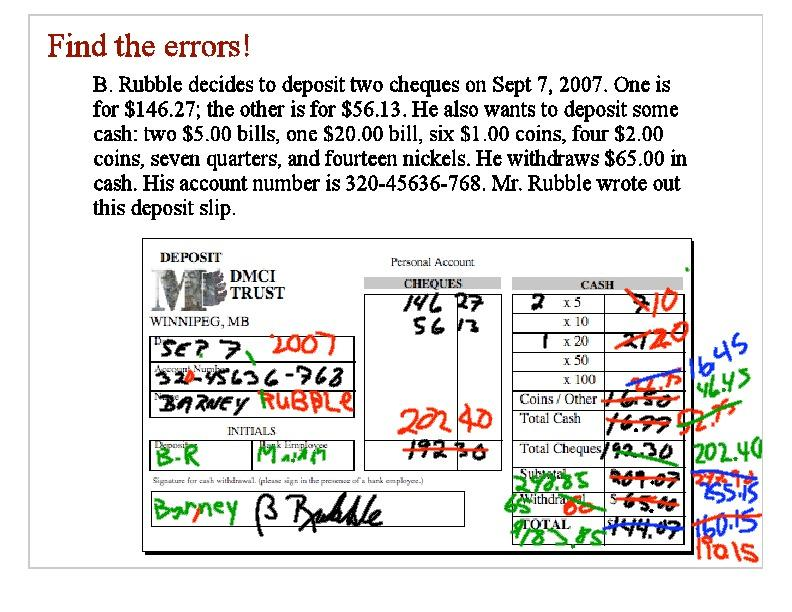paragraph: (87, 69, 792, 578)
title: (43, 24, 256, 67)
